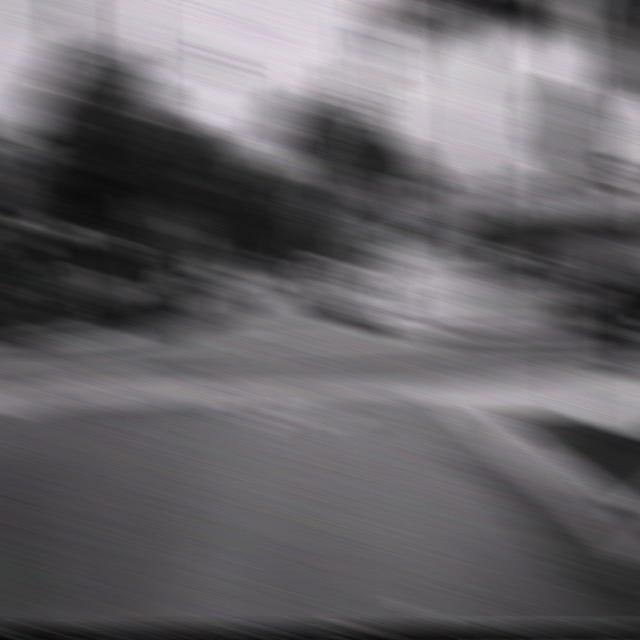stop: (530, 77, 602, 178)
